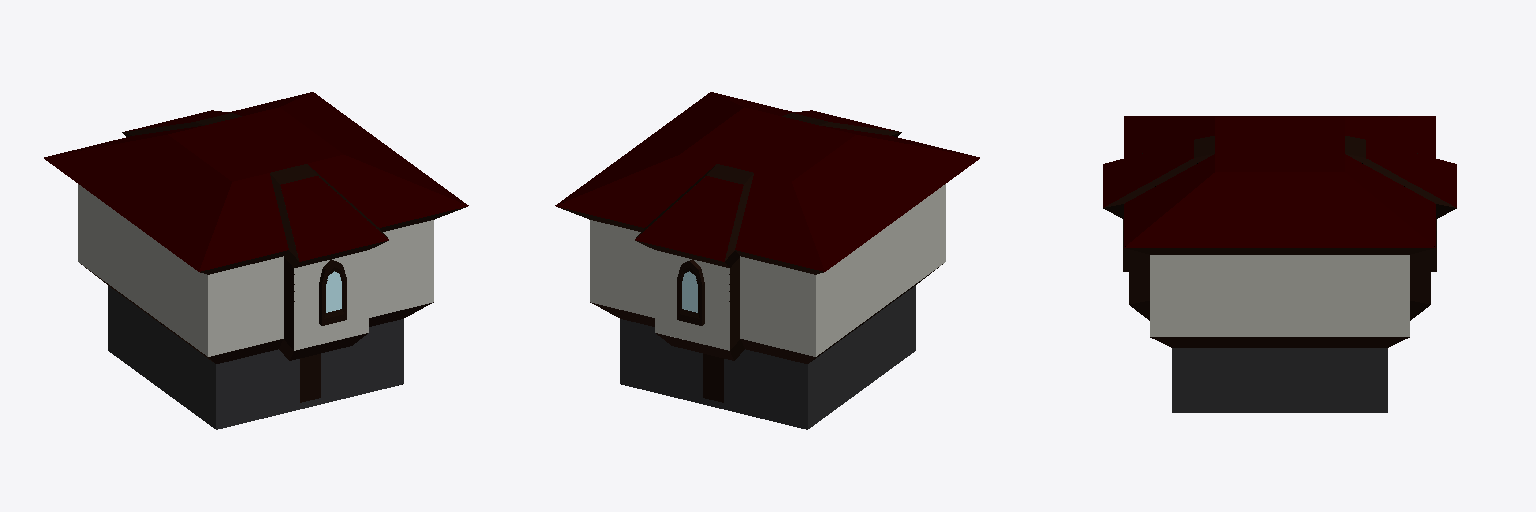
3 renders of one model, left to right at view 1: azimuth 30°, elevation 25°; view 2: azimuth 150°, elevation 25°; view 3: azimuth 270°, elevation 25°, orthographic.
Parts seen in each view (by area): view 1: Cube; view 2: Cube; view 3: Cube.
Boxes of the visible parts, <box> form: Cube: <box>44,92,468,429</box>; Cube: <box>555,92,979,429</box>; Cube: <box>1103,116,1456,412</box>.
Size of the model in its own units: 2.88 by 2.27 by 3.27.
Materials: 1 (1 with a texture image).